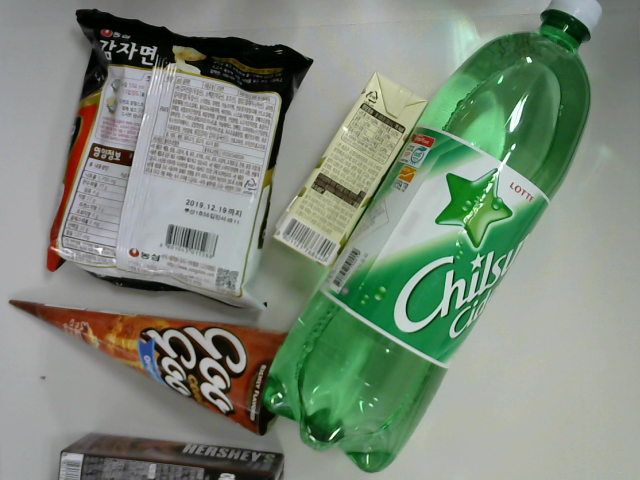99.89_Soymilk: (273, 71, 434, 278)
Chilseong_Cider_1.5L: (258, 1, 611, 476)
GooGoo_Cone_CVS: (1, 298, 304, 439)
Hush_Choco_Drink: (49, 424, 298, 480)
Potato: (39, 6, 318, 319)
